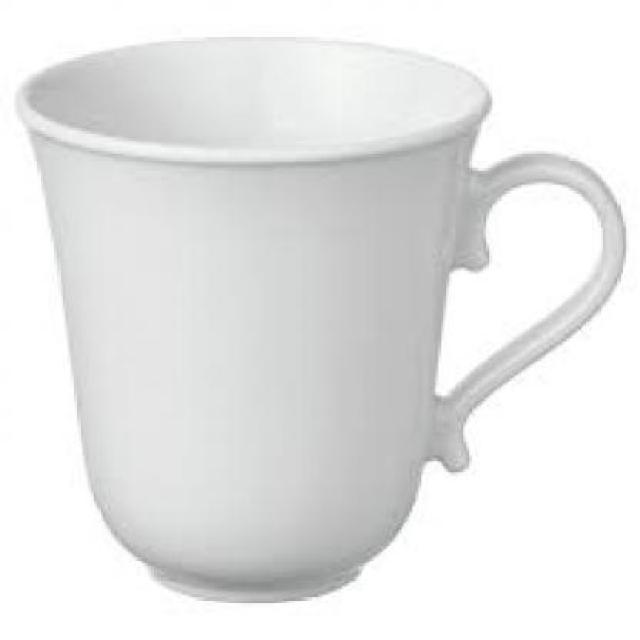cup: (12, 37, 629, 606)
